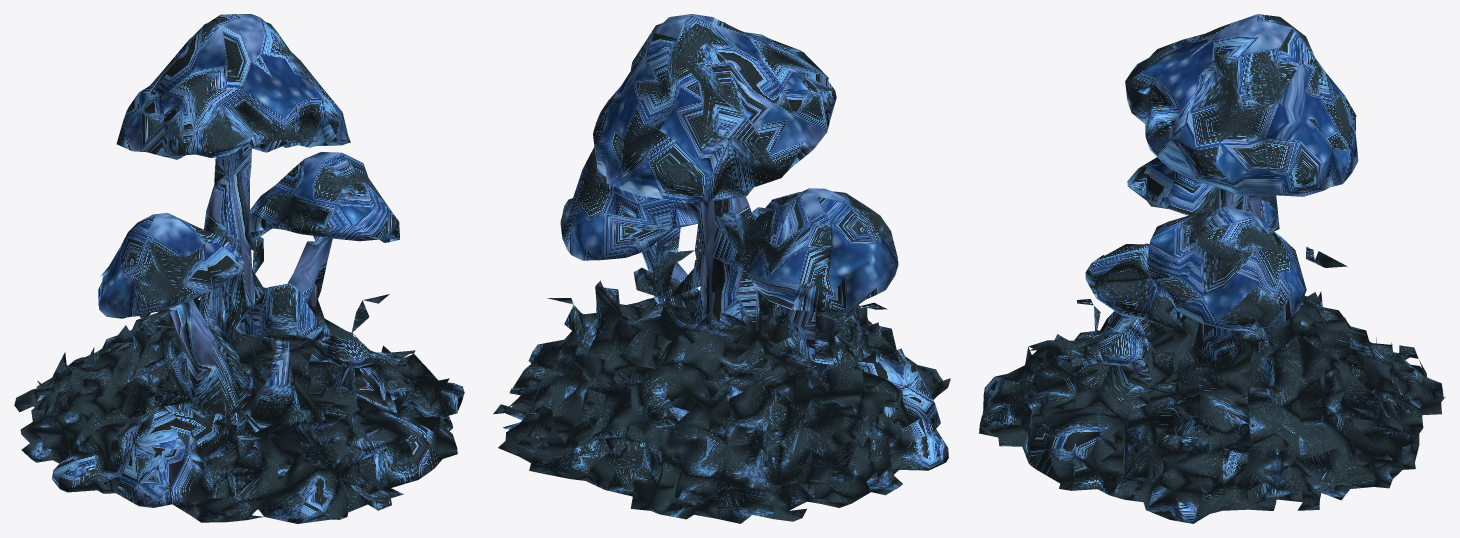
File: mushroom.glb
3 views of the same model, side by side, from view 1: azimuth 30°, elevation 25°; view 2: azimuth 150°, elevation 25°; view 3: azimuth 270°, elevation 25° (orthographic). The views are drawn at different scales.
Bounding box in the file's own units: 1.88 × 1.79 × 1.84.
Materials: 1 (1 with a texture image).
